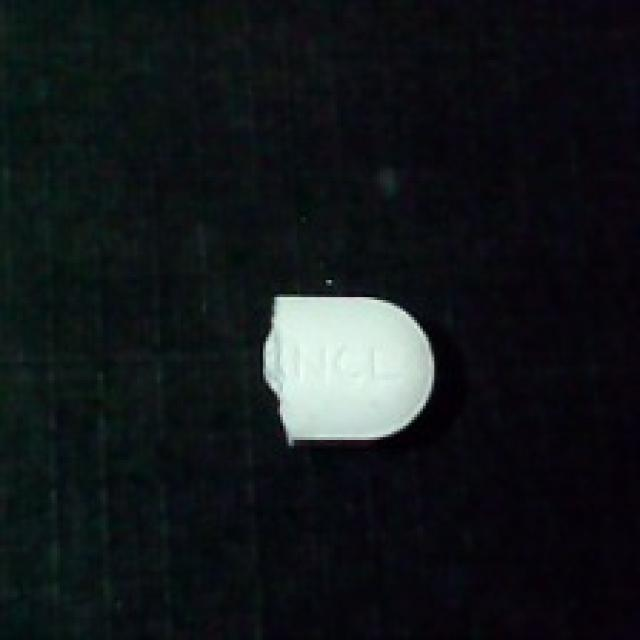defected: (243, 269, 466, 451)
